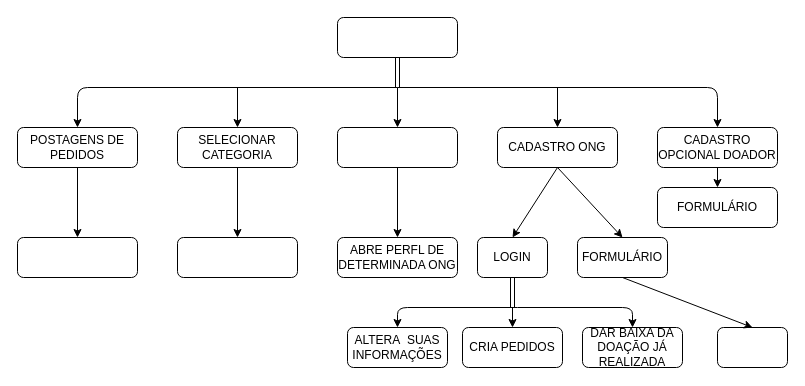
Some shapes in this 805 by 386 pixel diagram are drawn without their labels. Each missing label, with the centre of its shape:
"INFORMAÇÕES PARA A DOAÇÃO" belongs at point 77,257.
"LISTA AS ONGS QUE TEM PEDIDOS DESTA CATEGORIA" belongs at point 237,257.
"PÁGINA INICIAL" belongs at point 397,37.
"SELECIONAR ONG" belongs at point 397,147.
"VALIDAÇÃO" belongs at point 752,347.
